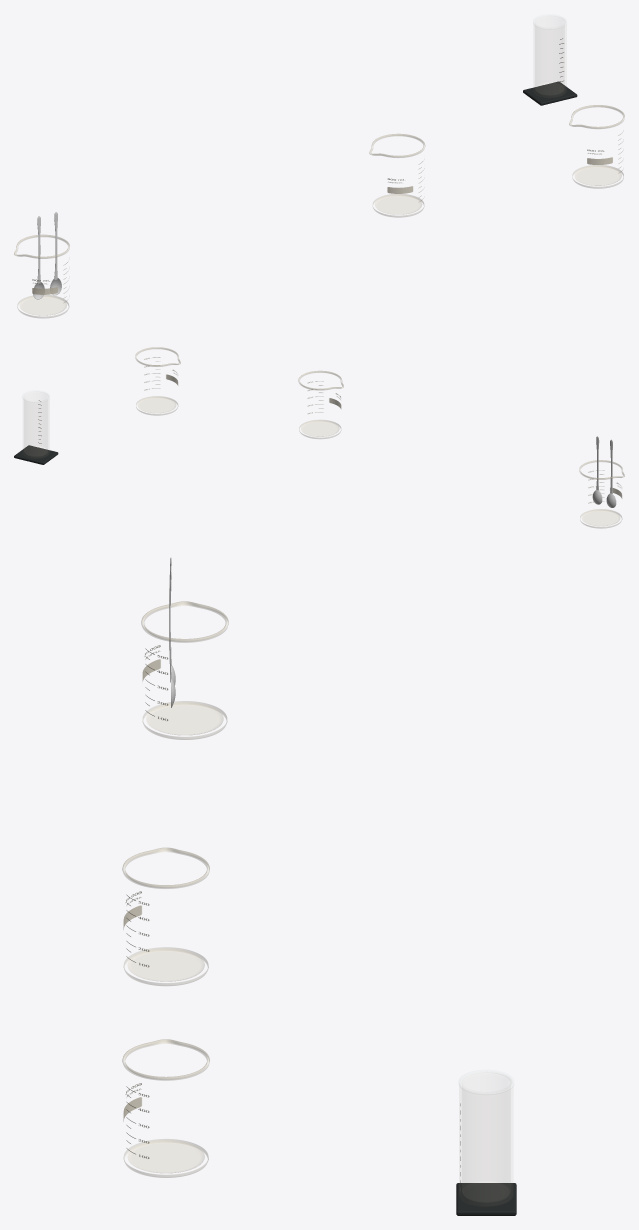
The model's file is heat-apparatus.glb.
3 views of the same model, one above another, from view 1: azimuth 30°, elevation 25°; view 2: azimuth 150°, elevation 25°; view 3: azimuth 270°, elevation 25° (orthographic). The views are drawn at different scales.
Parts seen in each view (by area): view 1: gas-cylinder, heater-beaker, cooling-beaker, bath-beaker; view 2: gas-cylinder, heater-beaker, cooling-beaker, bath-beaker; view 3: gas-cylinder, cooling-beaker, heater-beaker, bath-beaker.
Part boxes in pixels (bbox=[...]): gas-cylinder: bbox=[523, 15, 577, 105]; heater-beaker: bbox=[369, 133, 425, 217]; cooling-beaker: bbox=[569, 105, 624, 188]; bath-beaker: bbox=[14, 234, 69, 318]; gas-cylinder: bbox=[14, 391, 58, 464]; heater-beaker: bbox=[298, 370, 343, 438]; cooling-beaker: bbox=[135, 347, 180, 415]; bath-beaker: bbox=[579, 460, 624, 528]; gas-cylinder: bbox=[456, 1071, 516, 1215]; cooling-beaker: bbox=[122, 1039, 209, 1177]; heater-beaker: bbox=[122, 847, 209, 985]; bath-beaker: bbox=[141, 601, 228, 739].
Size of the model in its own units: 1.29 by 0.188 by 0.4185.
Materials: 2 (1 with a texture image).
